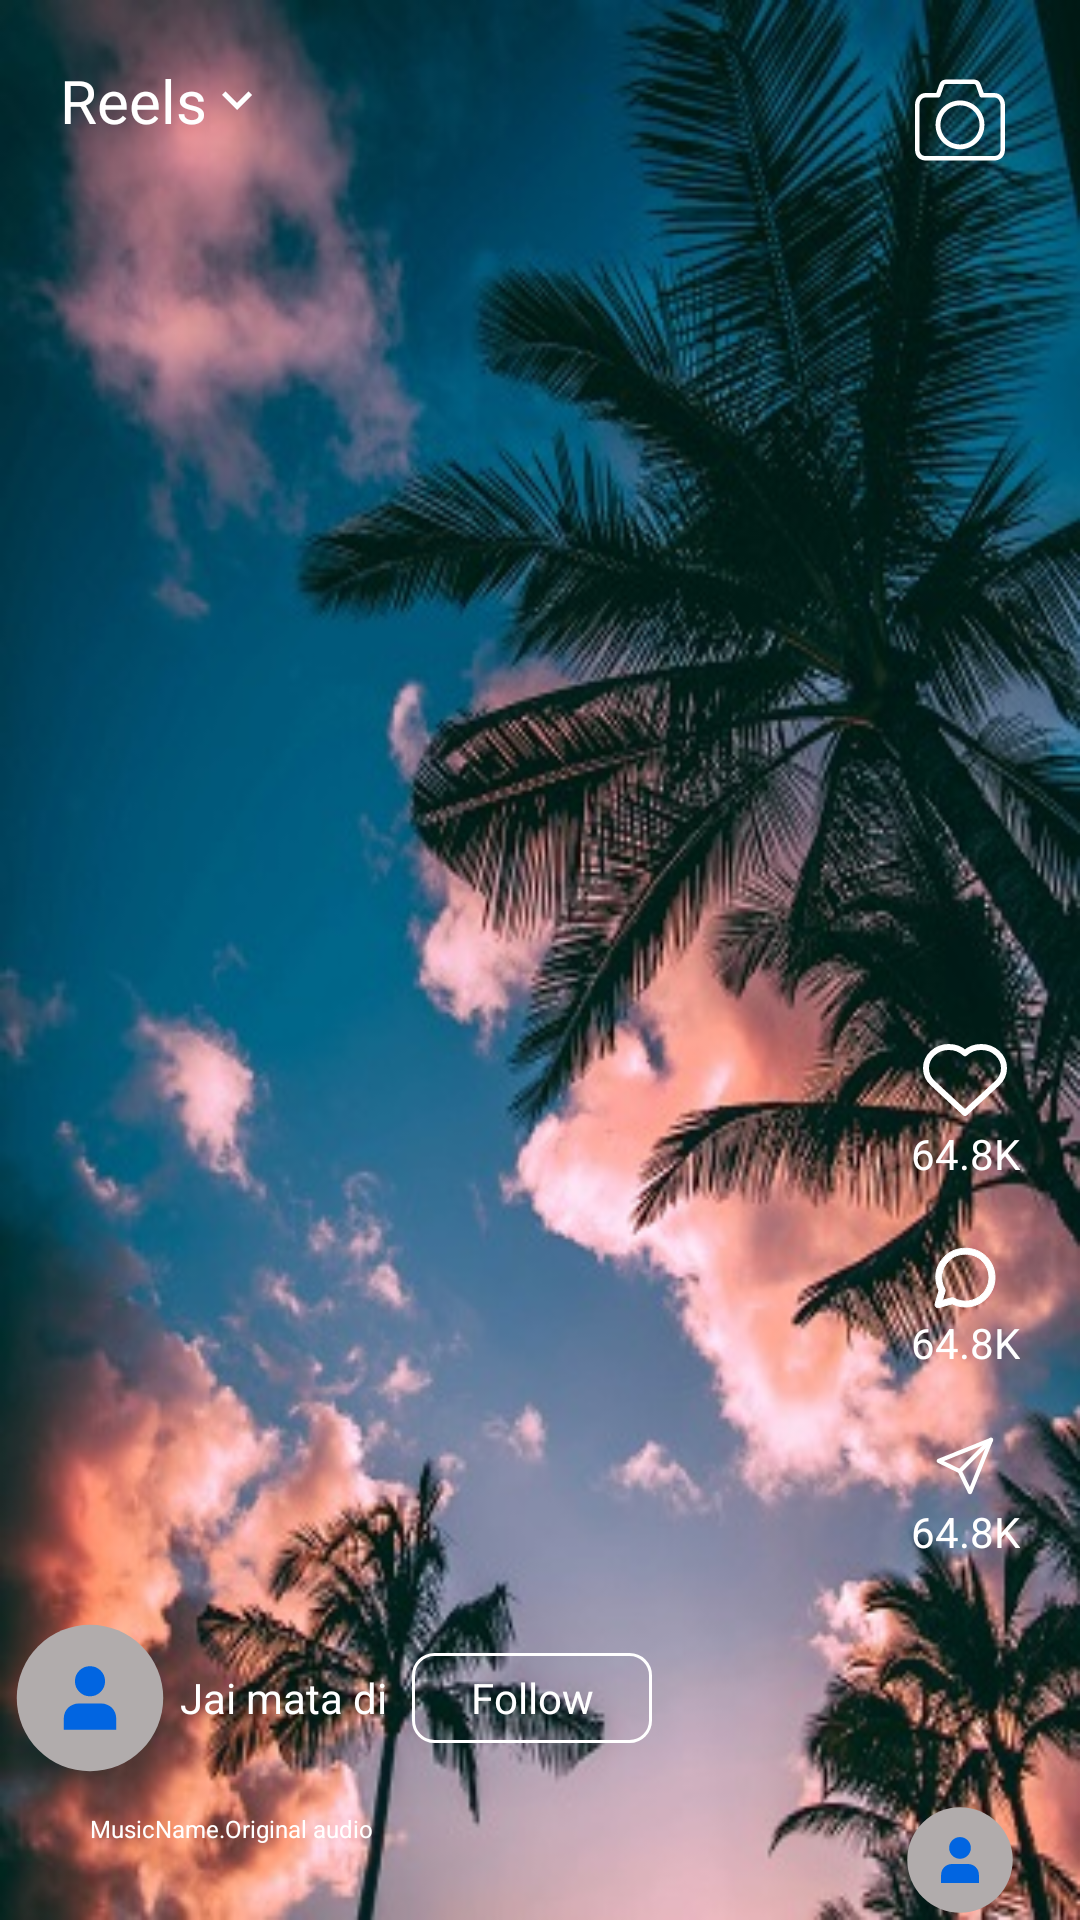

Named icons in this screenshot (1080px x 1920px) and their centers, (x=x, y=y):
camra: (x=960, y=120)
profile: (x=90, y=1698), (x=960, y=1860)
